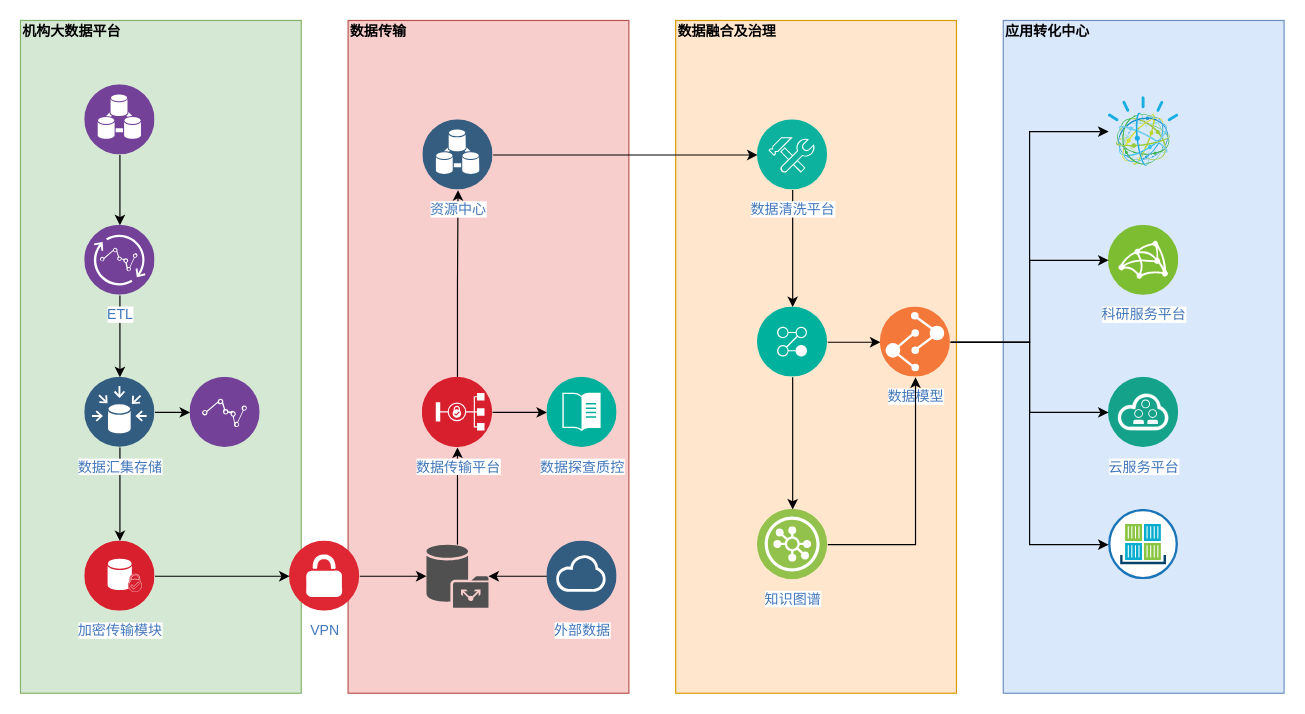
This 1305x714 diagram has some shape labels left out. The shapes that lost their labels are listed below. From the top down, each one's centre as x and y in pixels, then its label:
At (119,119): "业务系统".
At (1143,131): "智慧大脑服务".
At (792,342): "特征提取".
At (225,412): "机构数据平台".
At (1143,544): "开放数据平台".
At (457,575): "分布式消息队列".
